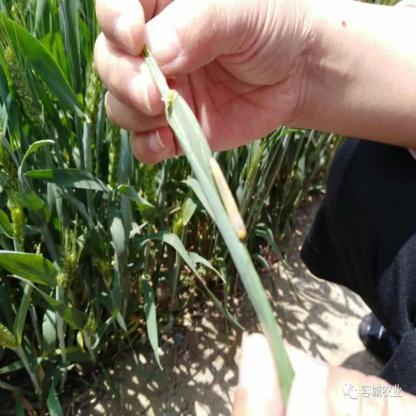sawfly: (210, 151, 251, 244)
